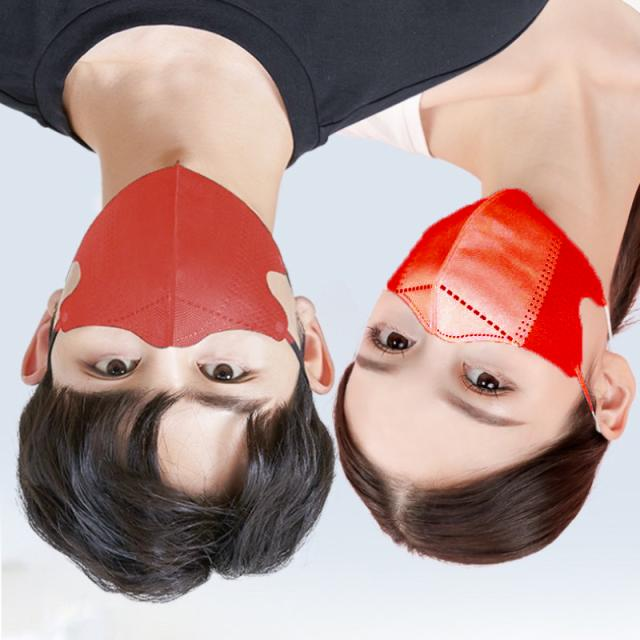mask: (383, 186, 612, 414), (46, 156, 304, 356)
